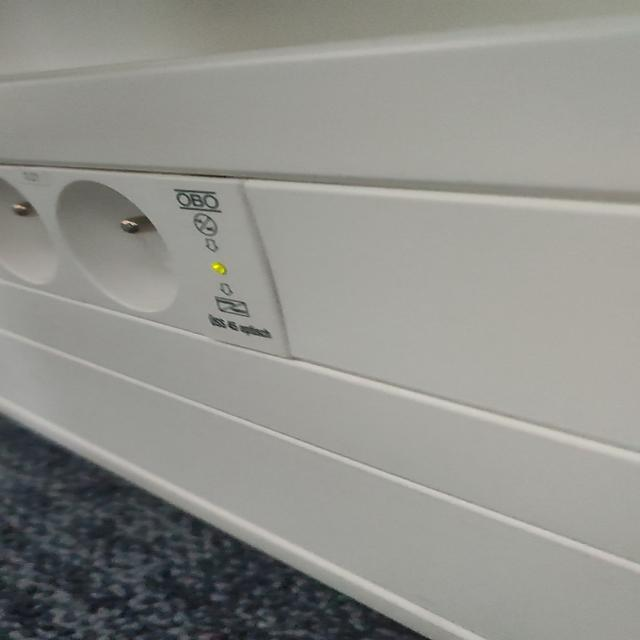house plug: (43, 172, 182, 331), (0, 162, 52, 294)
